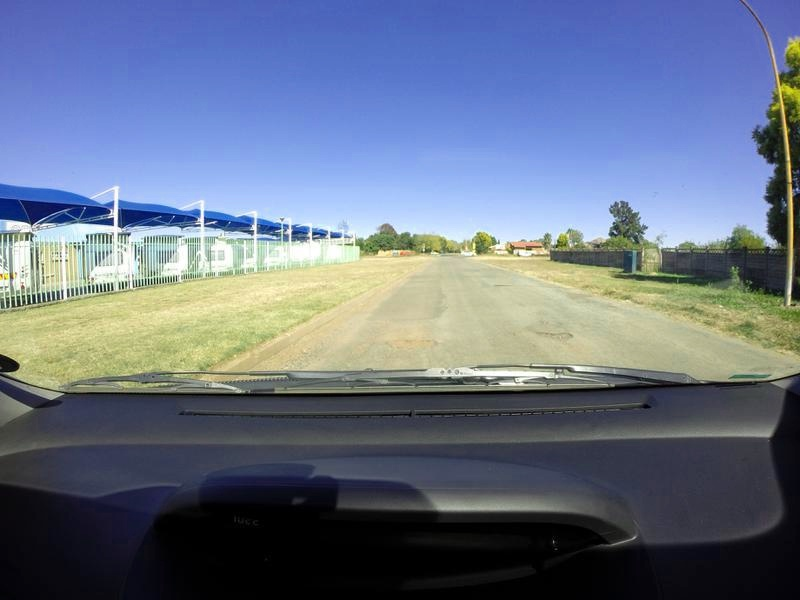pothole: (394, 338, 438, 348), (537, 329, 572, 339), (494, 283, 515, 284)
